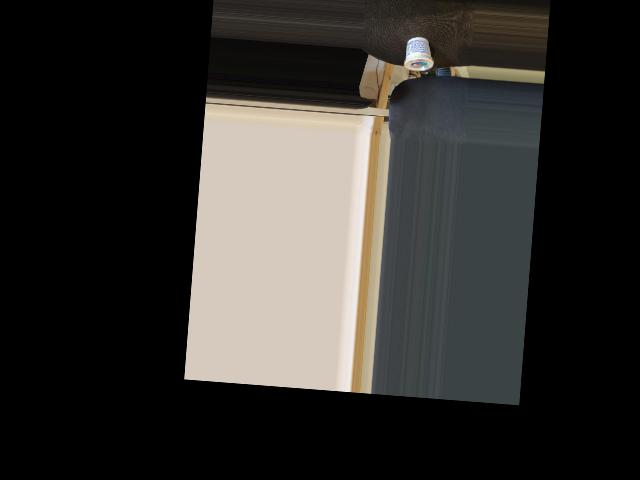cotage: (406, 35, 434, 74)
